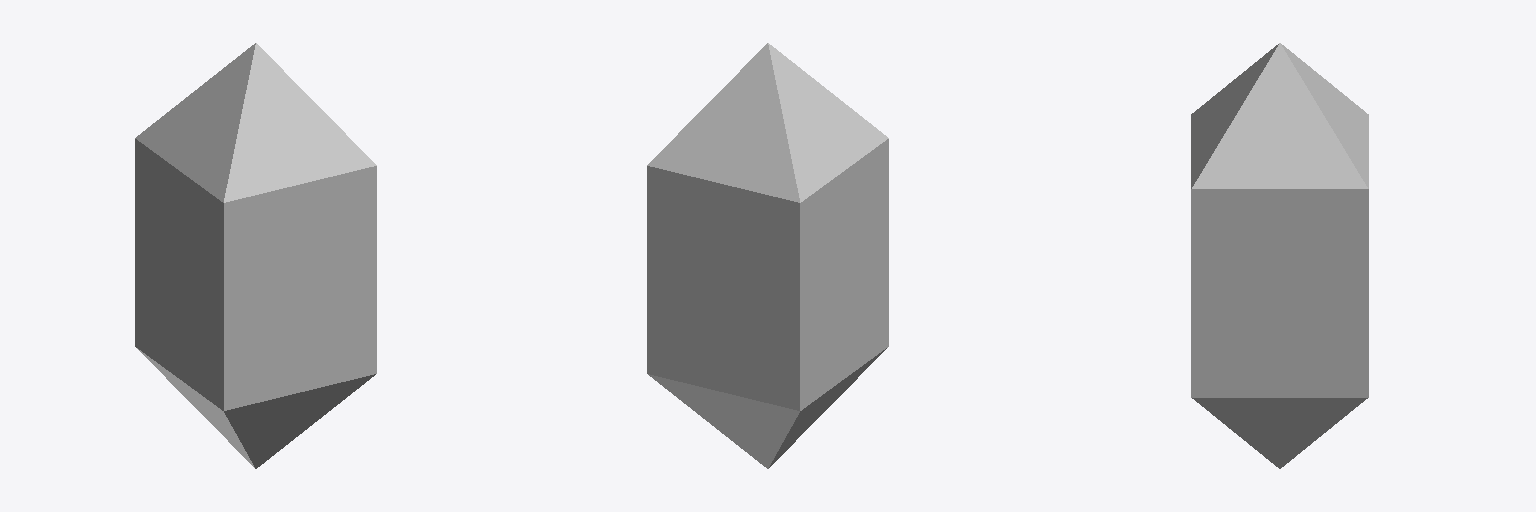
File: spawn_crystal.obj
3 views of the same model, side by side, from view 1: azimuth 30°, elevation 25°; view 2: azimuth 150°, elevation 25°; view 3: azimuth 270°, elevation 25° (orthographic).
Parts seen in each view (by area): view 1: spawn_crystal; view 2: spawn_crystal; view 3: spawn_crystal.
Boxes of the visible parts, box(x1,y1,x2,y2) form: spawn_crystal: box(135, 43, 376, 468); spawn_crystal: box(647, 43, 888, 468); spawn_crystal: box(1191, 43, 1368, 468).
Bounding box in the file's own units: 0.7413 × 1.97 × 0.7413.